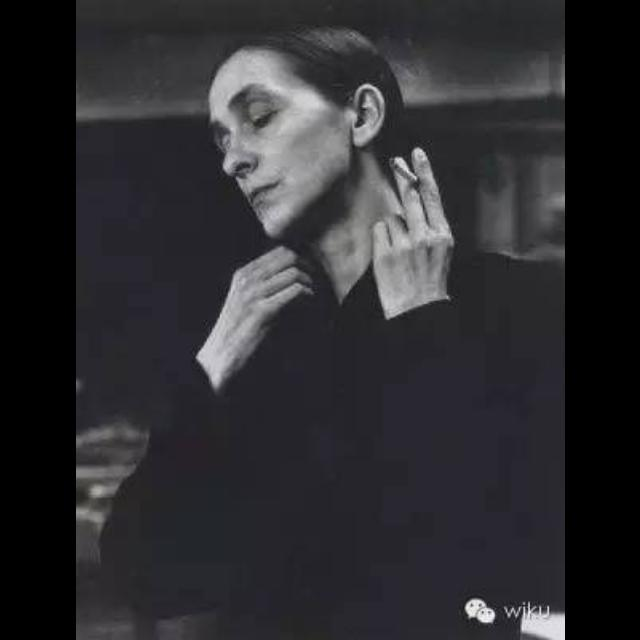rokok: (386, 159, 426, 183)
